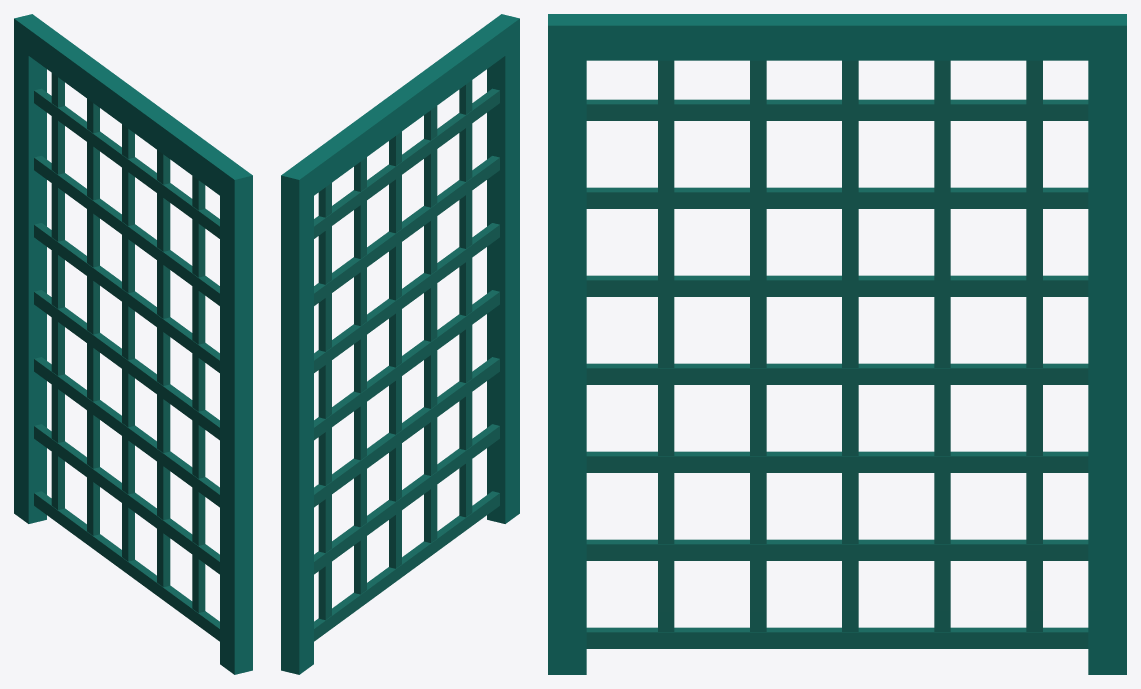
The model's file is Fence_1_E_2.glb.
3 renders of one model, left to right at view 1: azimuth 30°, elevation 25°; view 2: azimuth 150°, elevation 25°; view 3: azimuth 270°, elevation 25°, orthographic. The views are drawn at different scales.
Visible parts, largest first — view 1: Fence_1_E_2; view 2: Fence_1_E_2; view 3: Fence_1_E_2.
Part boxes in pixels (x1=…): Fence_1_E_2: x1=14, y1=14, x2=252, y2=674; Fence_1_E_2: x1=281, y1=14, x2=519, y2=674; Fence_1_E_2: x1=548, y1=14, x2=1126, y2=674.
Bounding box in the file's own units: 0.096 × 2.48 × 2.
1 material, 1 textured.
